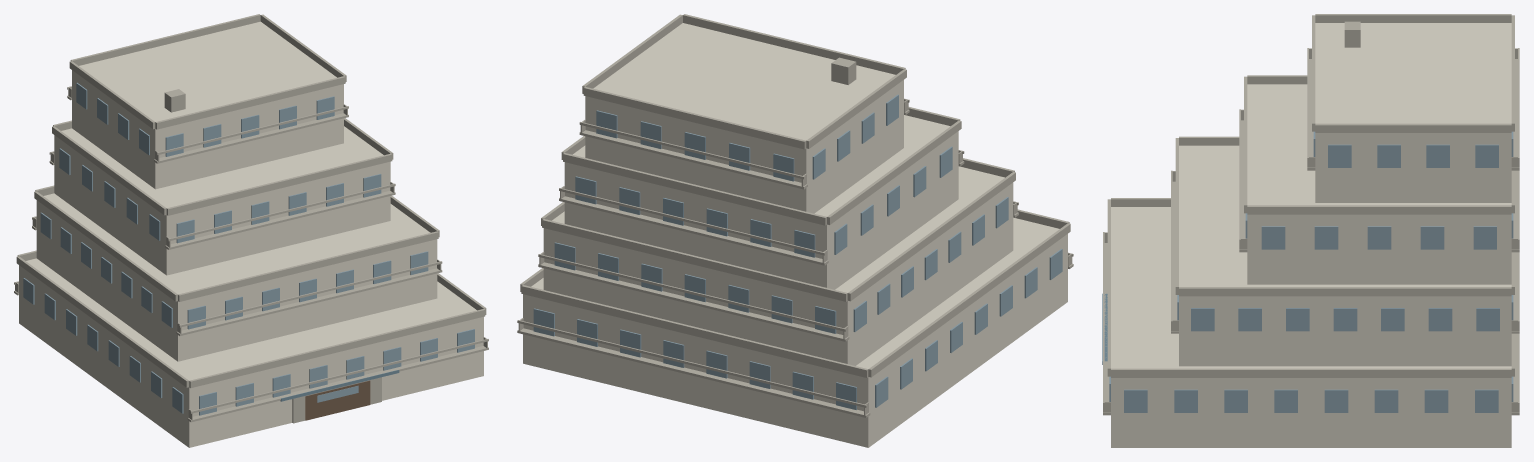
The model's file is residential_4x4_terraces.glb.
3 views of the same model, side by side, from view 1: azimuth 30°, elevation 25°; view 2: azimuth 150°, elevation 25°; view 3: azimuth 270°, elevation 25° (orthographic). The views are drawn at different scales.
Parts seen in each view (by area): view 1: residential_4x4_terraces_0; view 2: residential_4x4_terraces_0; view 3: residential_4x4_terraces_0.
Boxes of the visible parts, x1,y1,x2,y2 form: residential_4x4_terraces_0: (14,14,488,447); residential_4x4_terraces_0: (517,14,1073,447); residential_4x4_terraces_0: (1102,14,1519,447).
Bounding box in the file's own units: 31 × 25.5 × 31.75.
